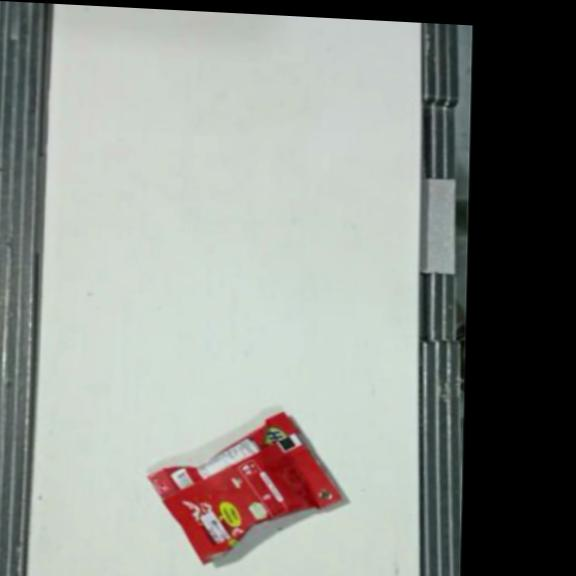Plastik: (146, 403, 345, 571)
